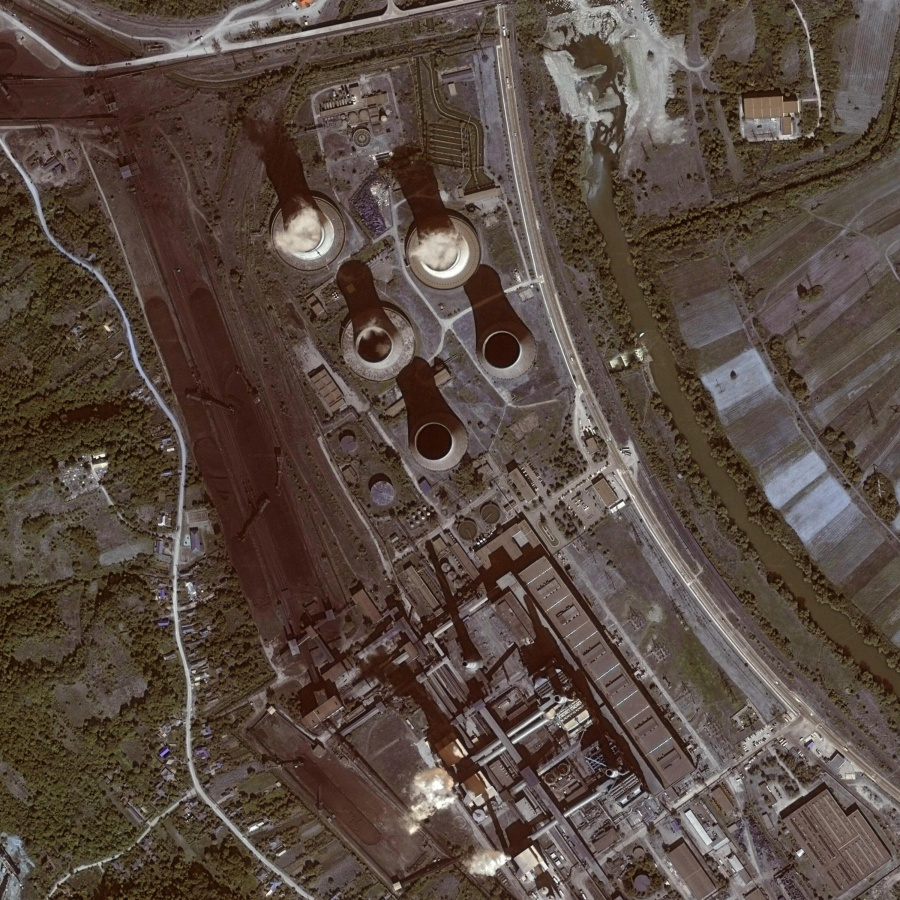PowerPlant: (109, 73, 549, 616)
